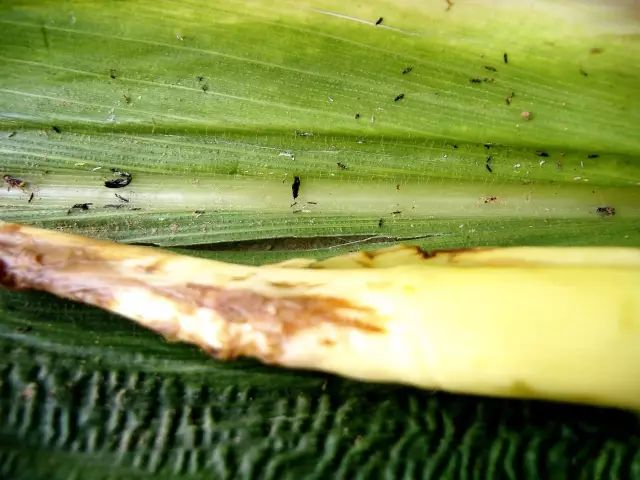Phlaeothripidae: (97, 172, 139, 191)
